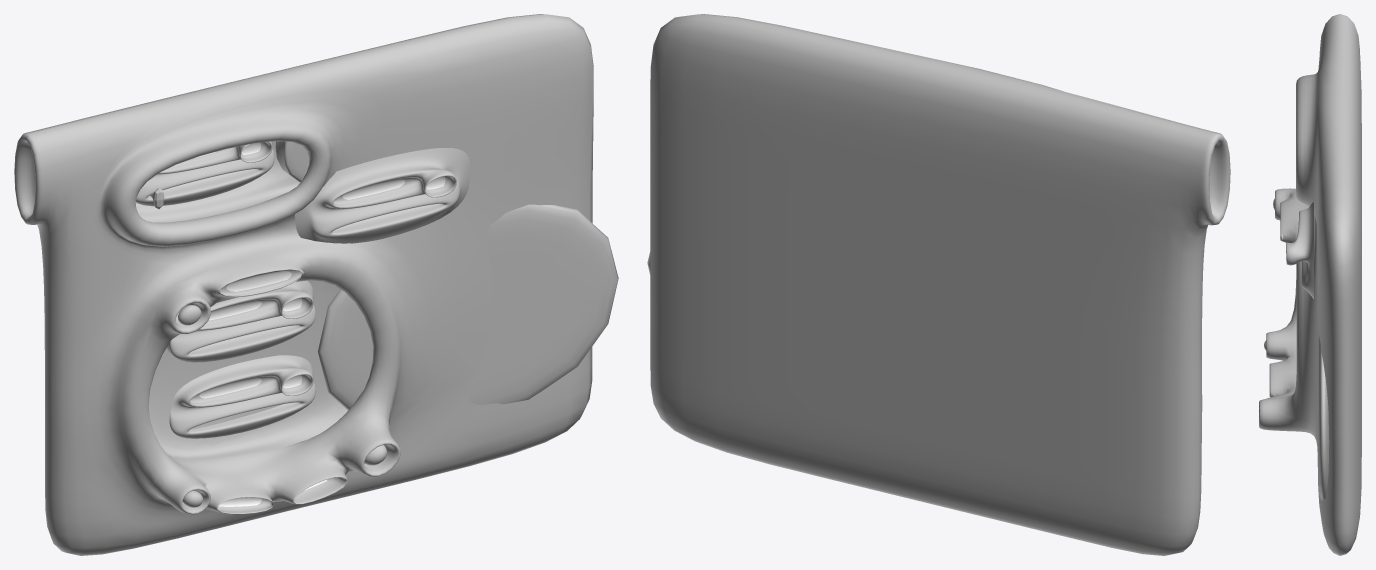
The model's file is SM_Settings_Controls_00.fbx.
The picture shows the model from 3 angles, left to right: view 1: azimuth 30°, elevation 25°; view 2: azimuth 150°, elevation 25°; view 3: azimuth 270°, elevation 25°; orthographic projection. The views are drawn at different scales.
Visible parts, largest first — view 1: SM_Settings_Controls_00, SM_Settings_Controls_Modules, SM_Settings_Controls_door, SM_Settings_Controls_Door_01; view 2: SM_Settings_Controls_00; view 3: SM_Settings_Controls_00, SM_Settings_Controls_Modules, SM_Settings_Controls_door.
Part boxes in pixels (x1,y1,x2,y2): SM_Settings_Controls_00: [14, 14, 593, 555]; SM_Settings_Controls_Modules: [136, 141, 470, 438]; SM_Settings_Controls_door: [318, 204, 618, 410]; SM_Settings_Controls_Door_01: [275, 141, 309, 182]; SM_Settings_Controls_00: [650, 14, 1230, 555]; SM_Settings_Controls_00: [1259, 14, 1361, 555]; SM_Settings_Controls_Modules: [1286, 202, 1313, 298]; SM_Settings_Controls_door: [1318, 335, 1329, 500].
Bounding box in the file's own units: 1156 × 831 × 224.
